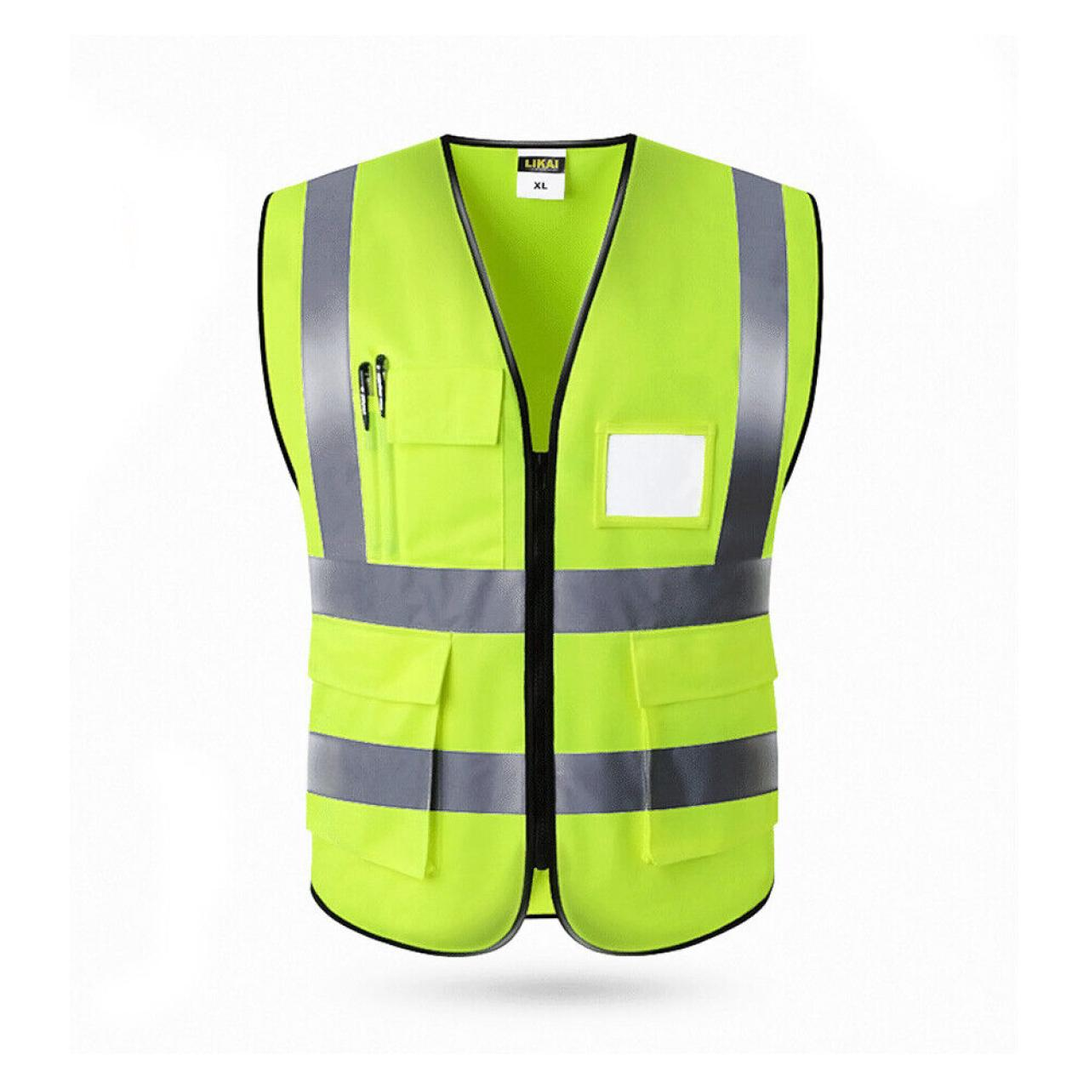Safety_Vest: (252, 115, 835, 984)
